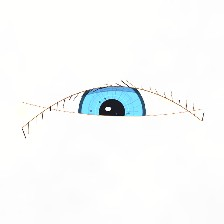pinguecula_lesion: (142, 85, 186, 120)
